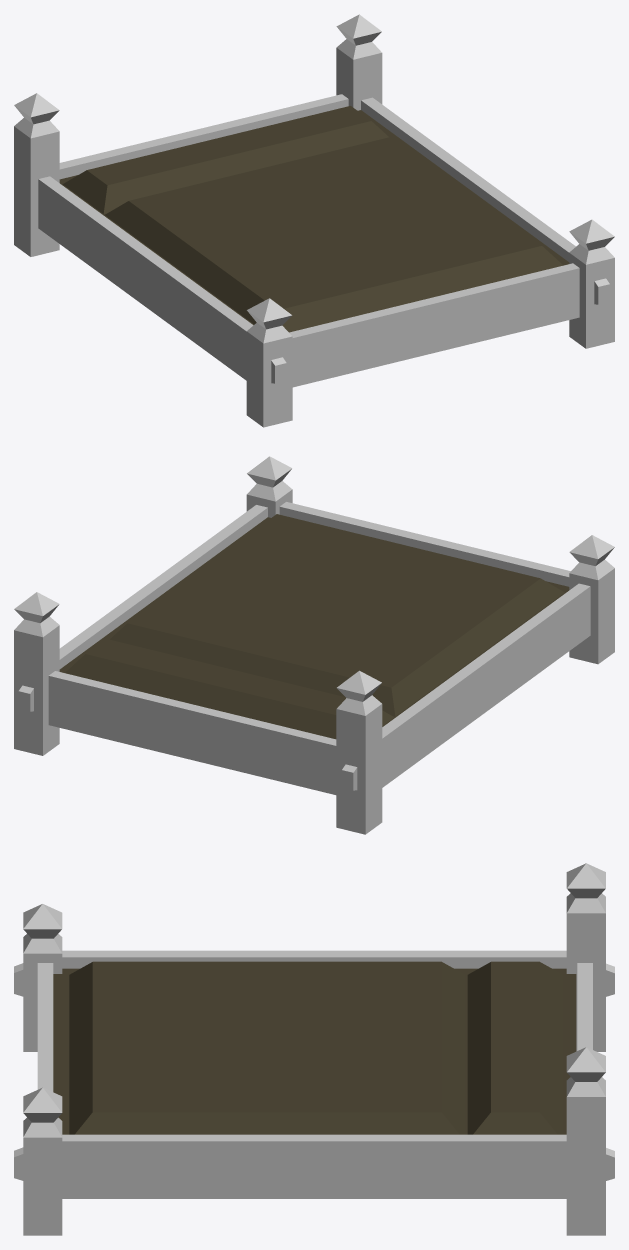
Rendered from DT_BED_V1.OBJ.
3 views of the same model, one above another, from view 1: azimuth 30°, elevation 25°; view 2: azimuth 150°, elevation 25°; view 3: azimuth 270°, elevation 25° (orthographic). The views are drawn at different scales.
Visible parts, largest first — view 1: DT_BED_V1; view 2: DT_BED_V1; view 3: DT_BED_V1.
Boxes of the visible parts, box(x1,y1,x2,y2) form: DT_BED_V1: box(14, 14, 614, 427); DT_BED_V1: box(14, 456, 614, 834); DT_BED_V1: box(14, 863, 614, 1235).
Bounding box in the file's own units: 2.18 × 0.9156 × 2.76.
